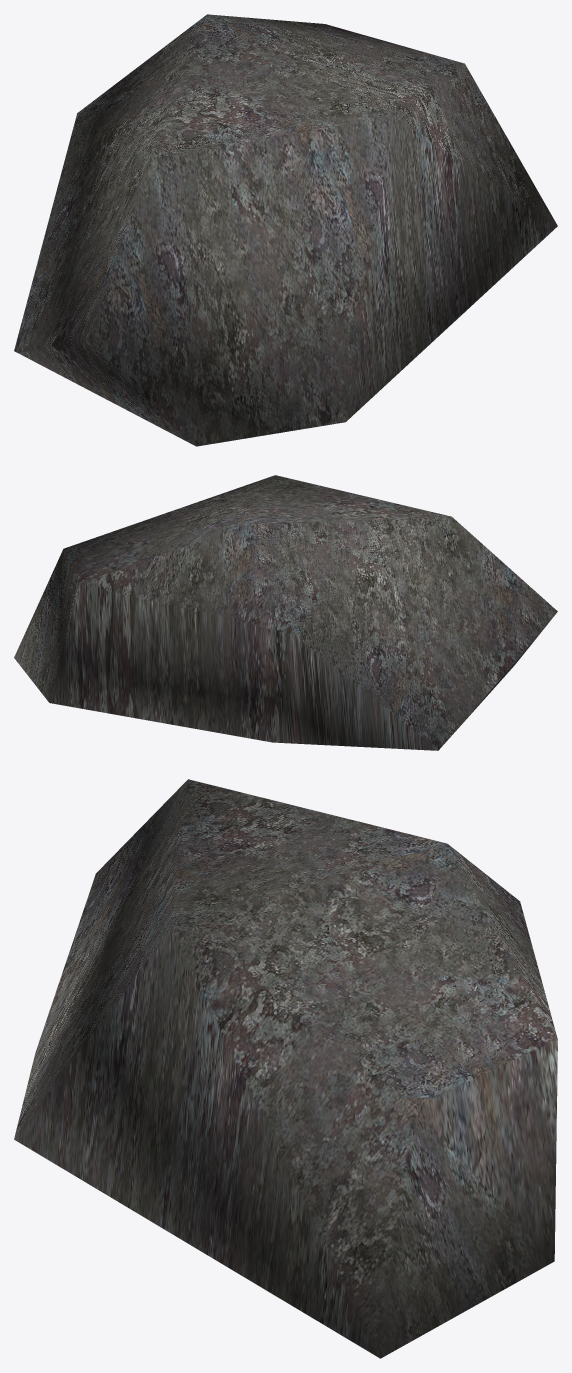
Rendered from rock_volcanorockc_l4.fbx.
3 renders of one model, top to bottom at view 1: azimuth 30°, elevation 25°; view 2: azimuth 150°, elevation 25°; view 3: azimuth 270°, elevation 25°, orthographic. The views are drawn at different scales.
Parts seen in each view (by area): view 1: mesh_node; view 2: mesh_node; view 3: mesh_node.
Part boxes in pixels (bbox=[...]): mesh_node: bbox=[14, 14, 557, 446]; mesh_node: bbox=[14, 475, 557, 750]; mesh_node: bbox=[14, 779, 557, 1358].
Size of the model in its own units: 13.93 by 6.13 by 9.29.
1 material, 1 textured.
